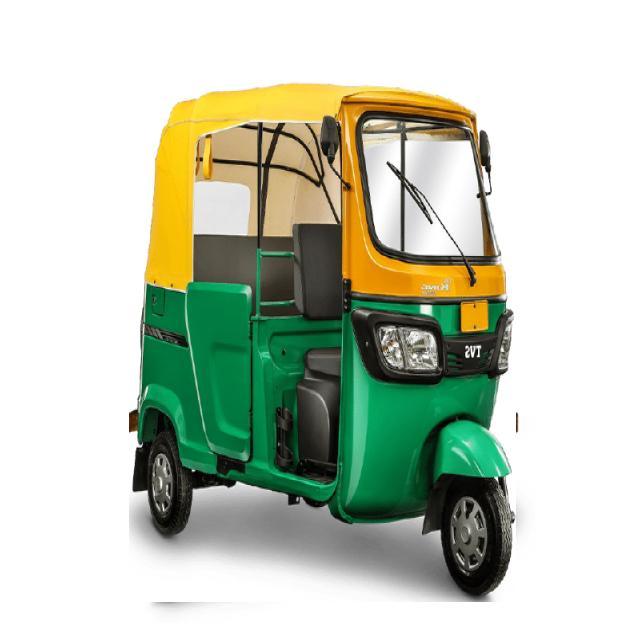autorickshaw: (130, 83, 516, 602)
